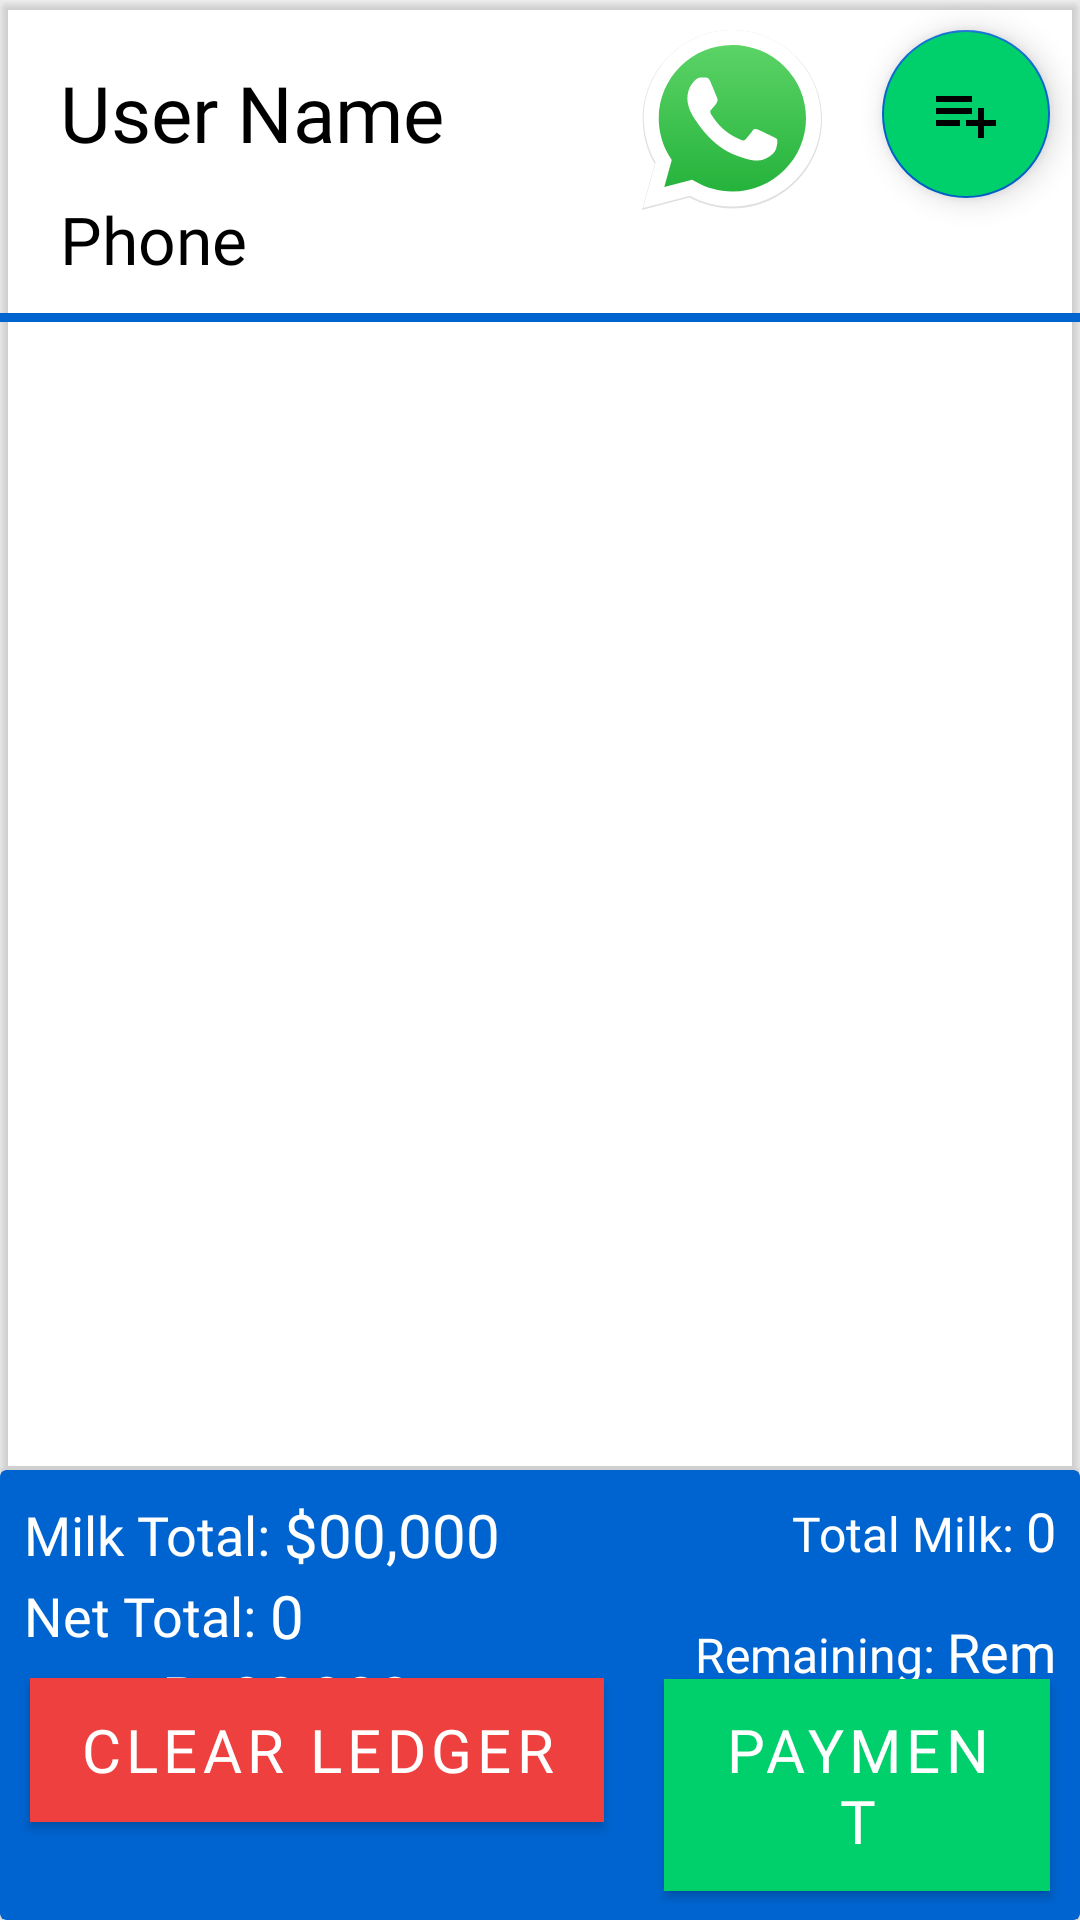

Where icons sit on this 1080x1920 app screen, as [x1, y1, x2, y2]:
add: [882, 30, 1050, 198]
